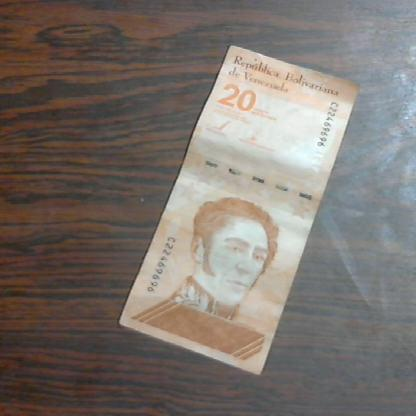twenty-front-vef: (116, 45, 359, 374)
